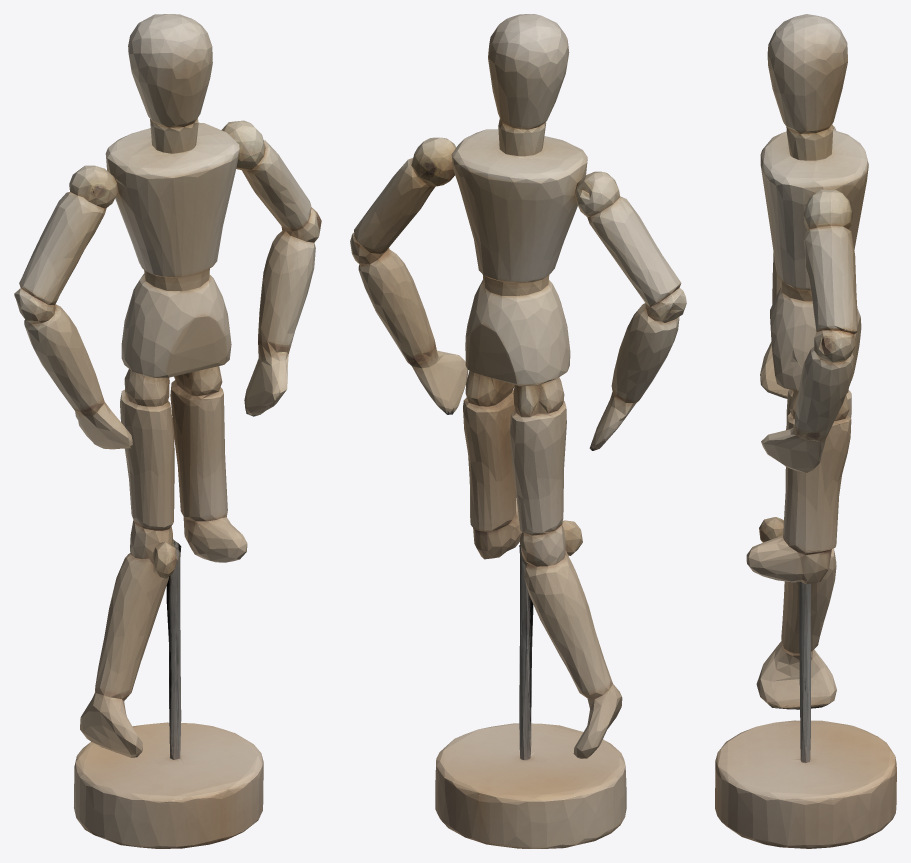
The model's file is bonhomme.glb.
The picture shows the model from 3 angles, left to right: view 1: azimuth 30°, elevation 25°; view 2: azimuth 150°, elevation 25°; view 3: azimuth 270°, elevation 25°; orthographic projection.
Visible parts, largest first — view 1: world; view 2: world; view 3: world.
Boxes of the visible parts, box(x1,y1,x2,y2) form: world: box(14, 14, 321, 848); world: box(350, 14, 686, 848); world: box(715, 14, 896, 848).
Size of the model in its own units: 0.4158 by 0.9999 by 0.2084.
1 material, 1 textured.
